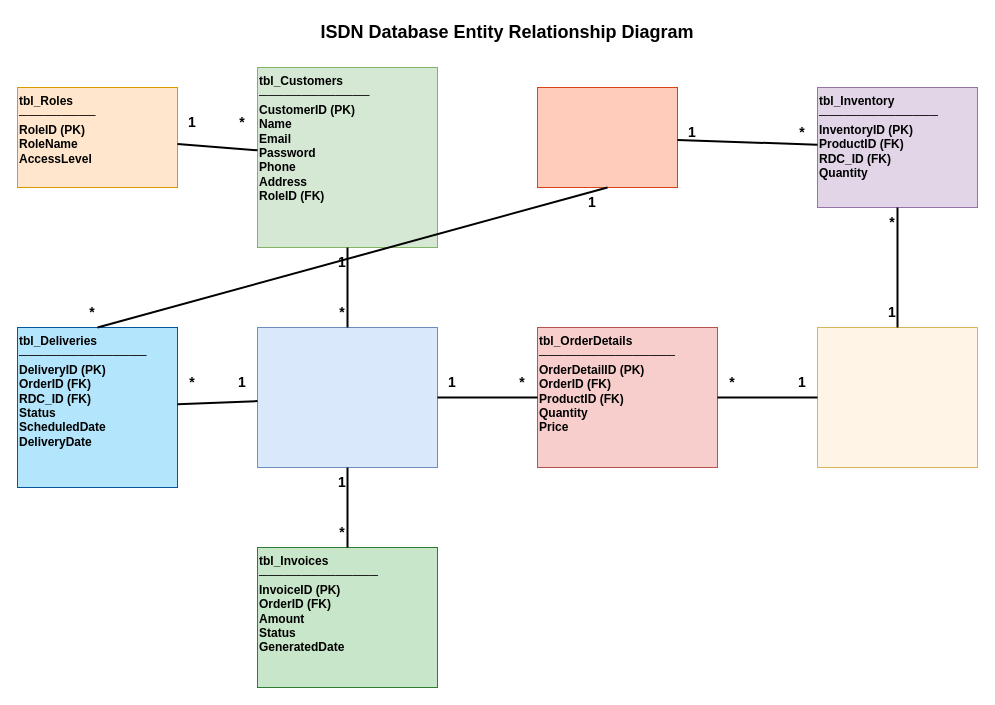
Some shapes in this 995 by 705 pixel diagram are drawn without their labels. Here are the shapes that lost their labels. From the top down, the centre of each, then its label:
point (607, 137): tbl_RDC ──────── RDC_ID (PK) Name Region
point (347, 397): tbl_Orders ────────── OrderID (PK) CustomerID (FK) OrderDate Status TotalAmount
point (897, 397): tbl_Products ──────────── ProductID (PK) Name Description Price Category
